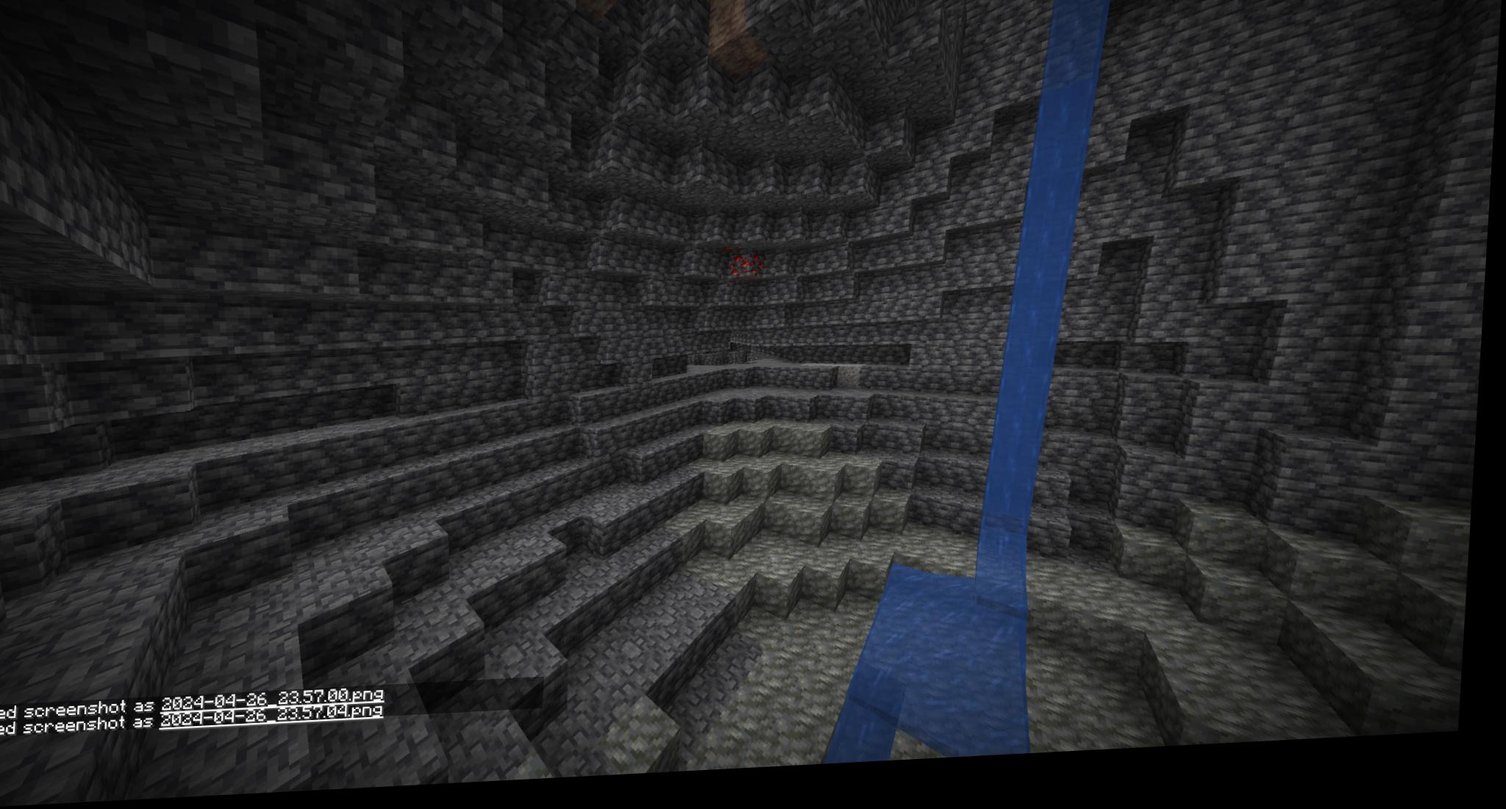redstone ore: (720, 245, 768, 290)
